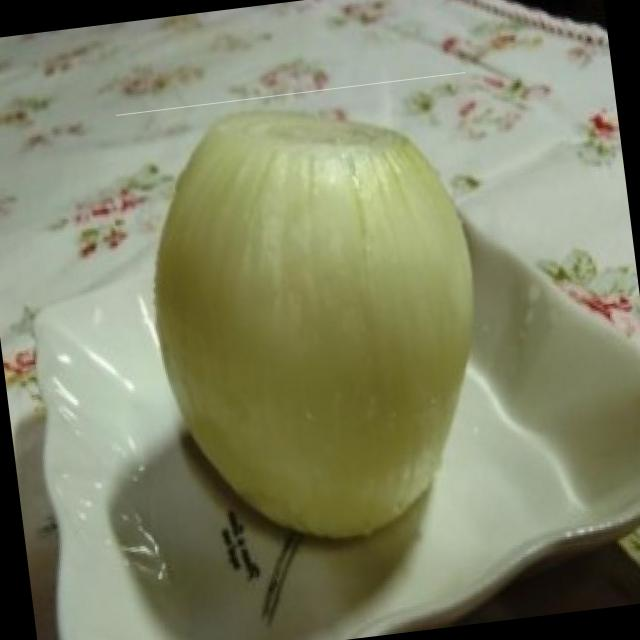Onion: (116, 71, 520, 570)
